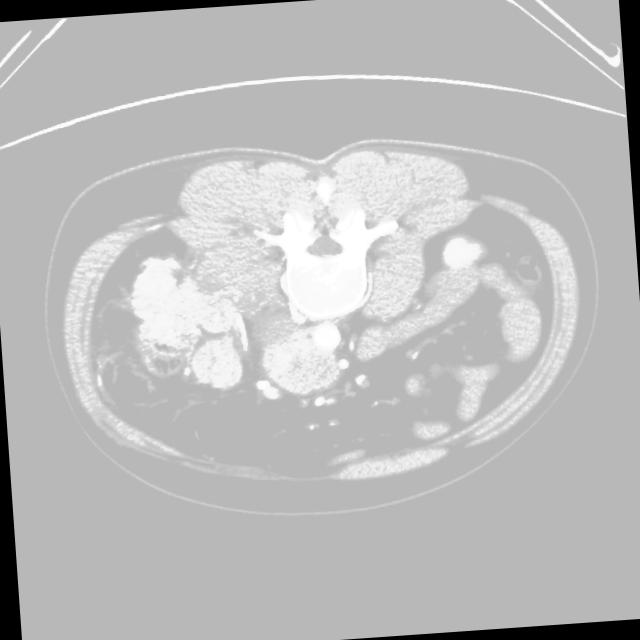TUMOR: (85, 176, 549, 459)
